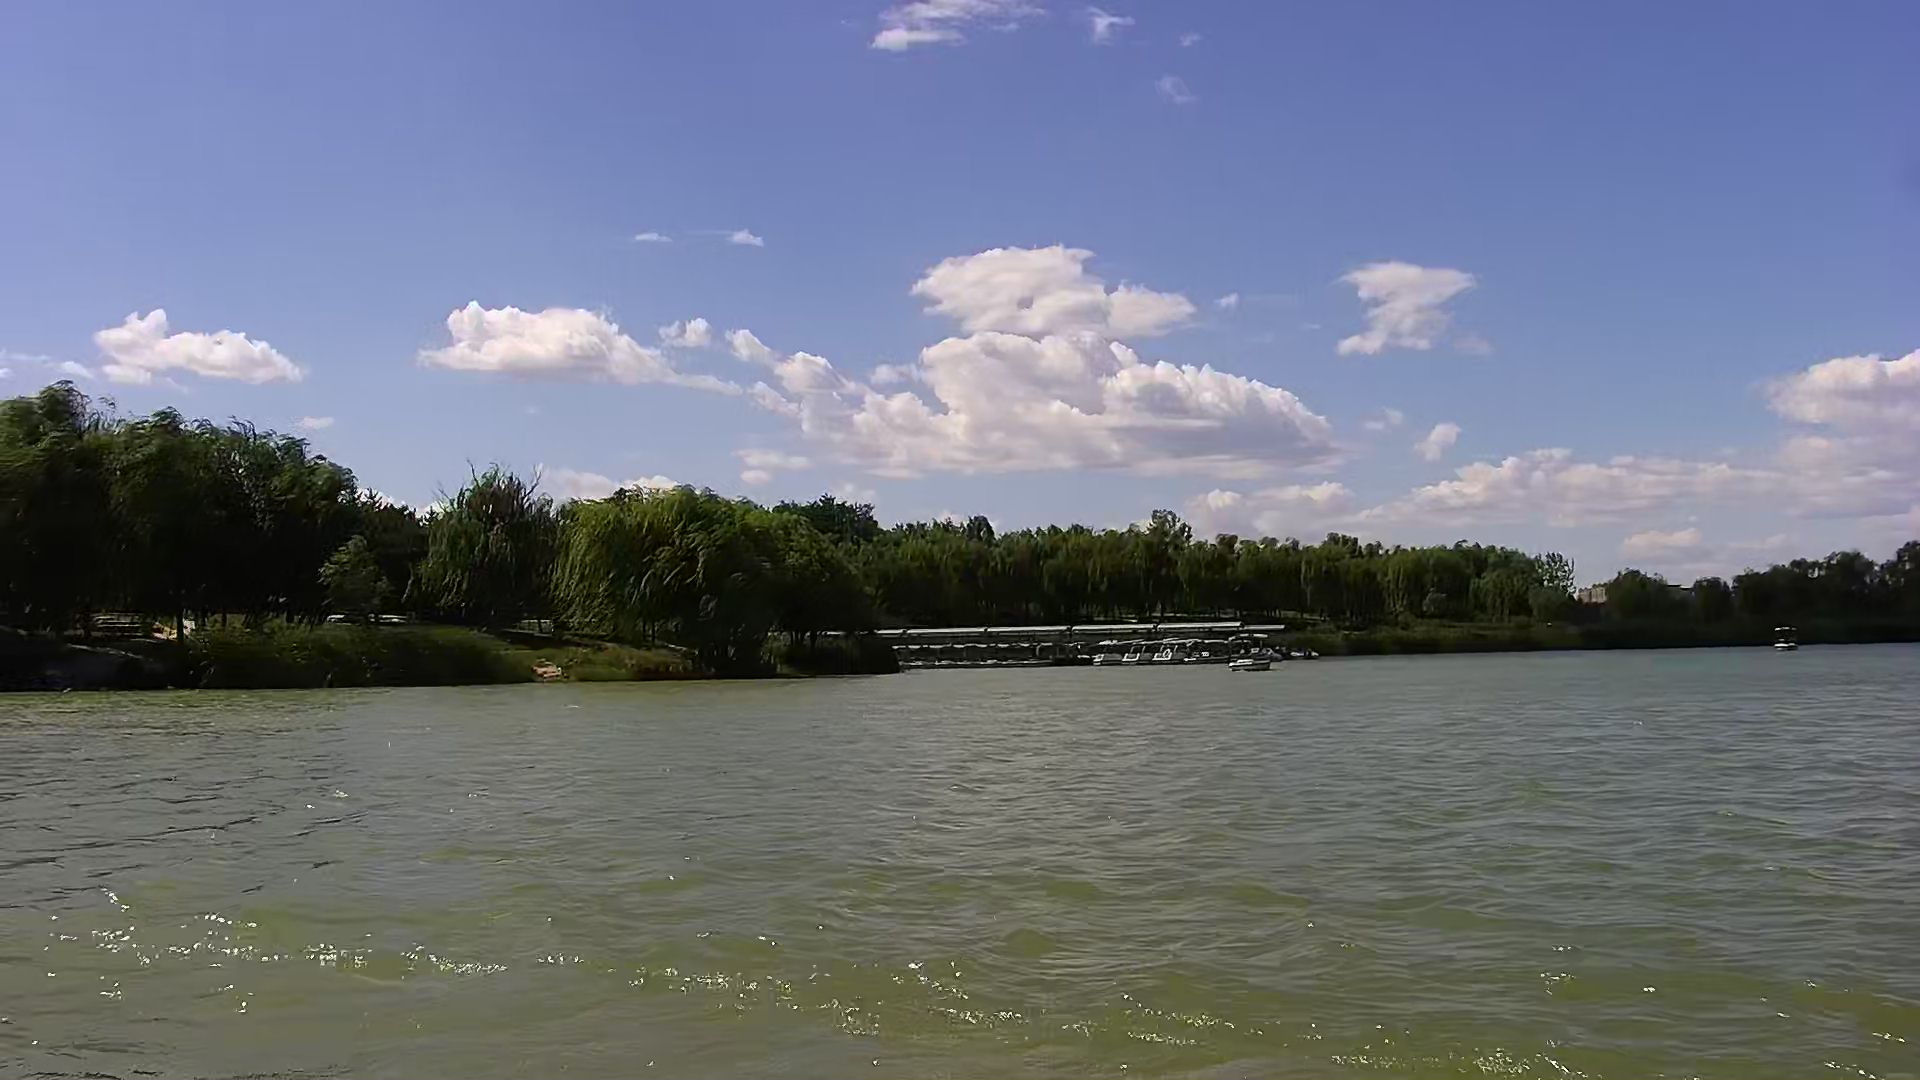boat: (1188, 640, 1226, 669), (1153, 641, 1180, 669), (1122, 641, 1150, 667), (1229, 657, 1270, 674), (1091, 642, 1120, 666), (1774, 622, 1796, 651)
harbor: (899, 622, 1284, 665)
